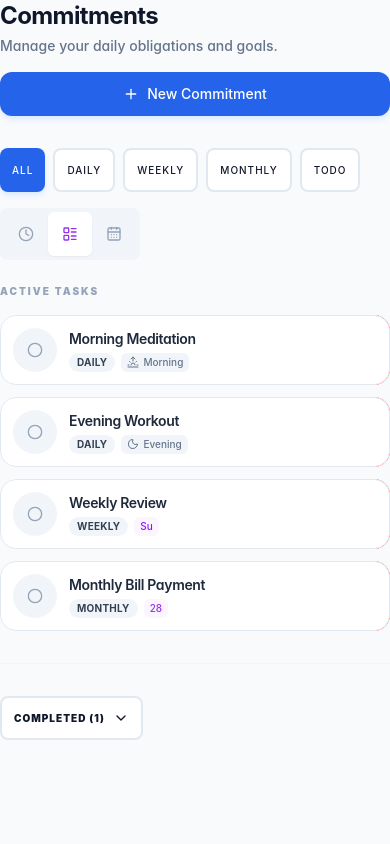
Test case: CommitmentsView › Add Task Form › closes add task form when top X is clicked
This screenshot has width=390, height=844.
Click the button "New Commitment".
click(195, 94)  # box [0, 72, 389, 116]
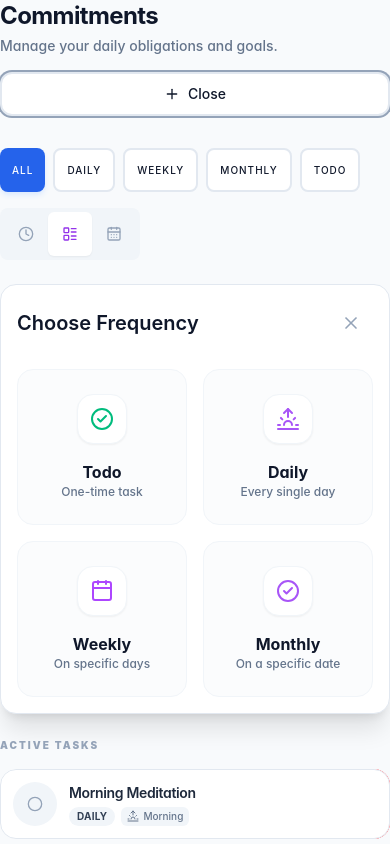
Click the button without text next to "Choose Frequency".
click(351, 323)  # box [329, 301, 373, 345]
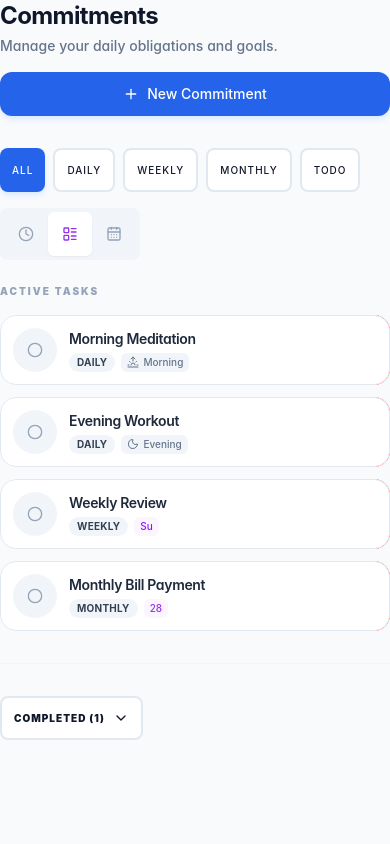
Expected: the heading "Choose Frequency" is gone
